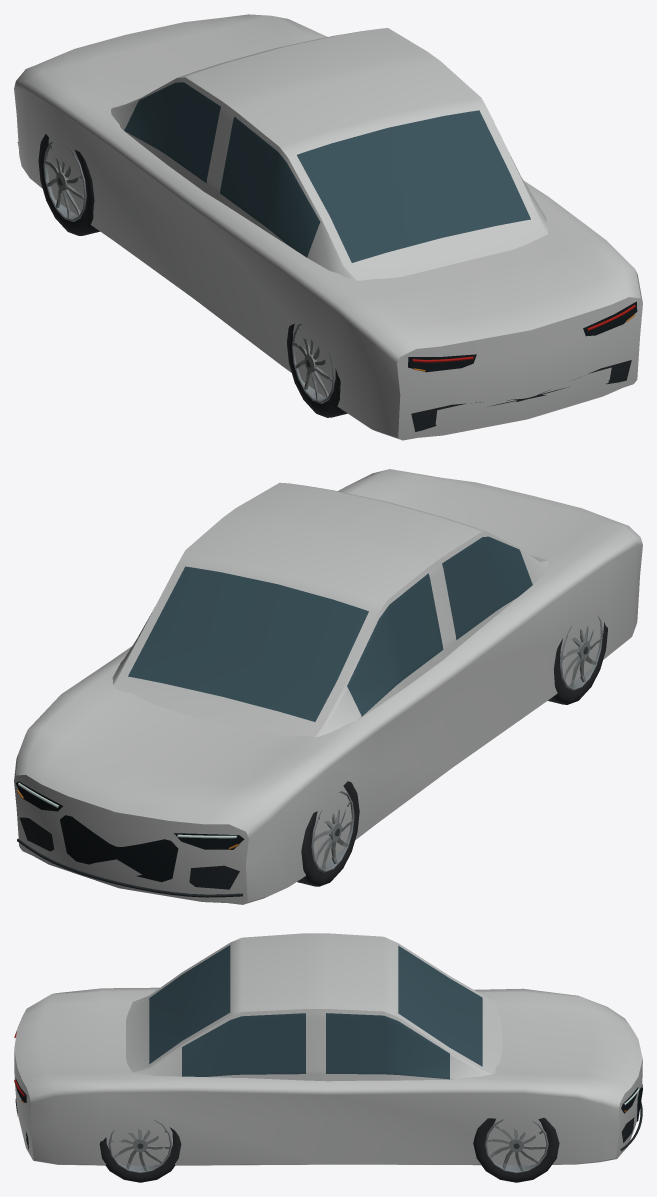
File: kessel-s5-lod.glb
3 renders of one model, top to bottom at view 1: azimuth 30°, elevation 25°; view 2: azimuth 150°, elevation 25°; view 3: azimuth 270°, elevation 25°, orthographic. The views are drawn at different scales.
Visible parts, largest first — view 1: paint, glass, wheelSurface (×2), trim; view 2: paint, glass, trim, wheelSurface (×2); view 3: paint, glass, wheelSurface (×2), trim.
Boxes of the visible parts, x1,y1,x2,y2 form: paint: (14,14,642,440); glass: (124,82,530,262); wheelSurface (×2): (38,134,347,417); trim: (17,142,637,431); paint: (14,469,642,904); glass: (128,536,532,721); trim: (16,781,244,897); wheelSurface (×2): (297,615,607,886); paint: (14,933,642,1165); glass: (149,945,482,1079); wheelSurface (×2): (99,1117,559,1182); trim: (15,1078,642,1151).
Bounding box in the file's own units: 1.93 × 1.47 × 4.98.
